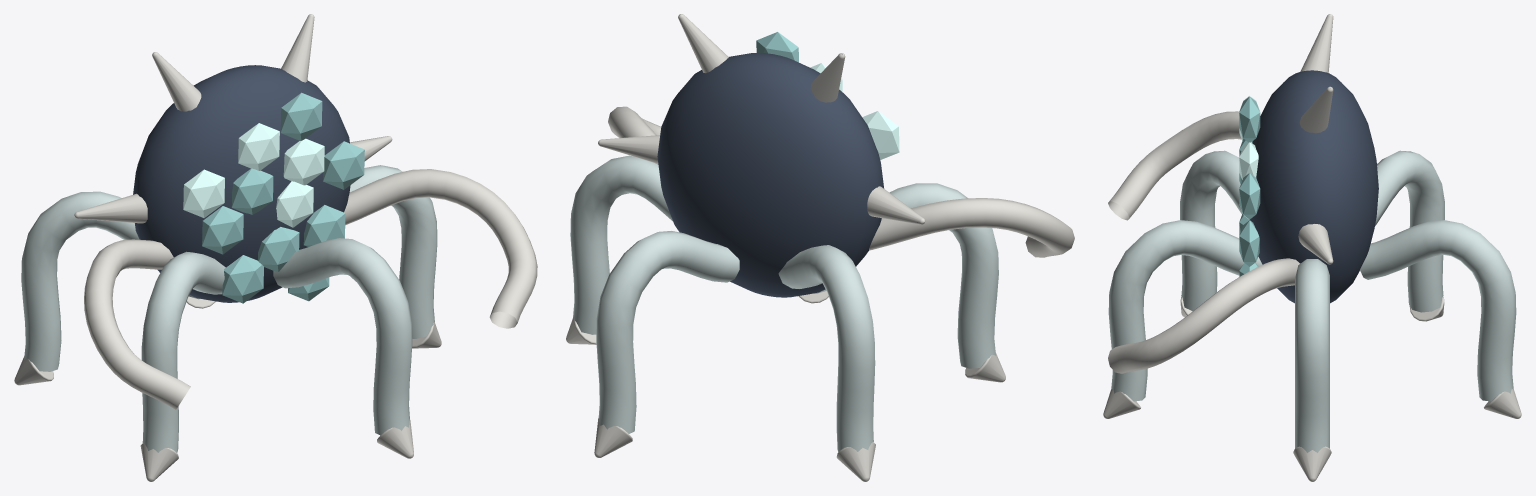
Rendered from bio_crown_stalker_01_near.glb.
3 views of the same model, side by side, from view 1: azimuth 30°, elevation 25°; view 2: azimuth 150°, elevation 25°; view 3: azimuth 270°, elevation 25° (orthographic). The views are drawn at different scales.
Parts seen in each view (by area): view 1: Faceted crown substrate, Compound lens facet.001, Crooked support.004, Scythe sensory limb.001, Crooked support.002, Crooked support.003, Scythe sensory limb, Compound lens facet, Crooked support, Crown radiating blade, Contact spur.003, Contact spur.004 (+1 smaller); view 2: Faceted crown substrate, Crooked support.001, Crooked support.002, Crooked support, Crooked support.003, Scythe sensory limb, Crown radiating blade, Compound lens facet, Scythe sensory limb.001, Contact spur.002, Contact spur.001, Compound lens facet.001 (+1 smaller); view 3: Faceted crown substrate, Crooked support.001, Crooked support.004, Crooked support, Scythe sensory limb.001, Crooked support.002, Crooked support.003, Scythe sensory limb, Crown radiating blade, Compound lens facet.001, Contact spur, Contact spur.001 (+2 smaller).
Part boxes in pixels (bbox=[...]): Faceted crown substrate: bbox=[133, 65, 350, 302]; Compound lens facet.001: bbox=[202, 92, 364, 303]; Crooked support.004: bbox=[273, 238, 412, 435]; Scythe sensory limb.001: bbox=[344, 169, 537, 328]; Crooked support.002: bbox=[21, 191, 139, 371]; Crooked support.003: bbox=[141, 251, 225, 452]; Scythe sensory limb: bbox=[84, 239, 190, 409]; Compound lens facet: bbox=[183, 123, 324, 227]; Crooked support: bbox=[349, 165, 437, 338]; Crown radiating blade: bbox=[74, 14, 392, 223]; Contact spur.003: bbox=[140, 443, 178, 481]; Contact spur.004: bbox=[377, 419, 413, 458]; Faceted crown substrate: bbox=[657, 52, 884, 297]; Crooked support.001: bbox=[596, 231, 739, 433]; Crooked support.002: bbox=[778, 245, 875, 451]; Crooked support: bbox=[570, 155, 672, 334]; Crooked support.003: bbox=[889, 183, 998, 368]; Scythe sensory limb: bbox=[869, 198, 1074, 257]; Crown radiating blade: bbox=[598, 14, 925, 224]; Compound lens facet: bbox=[810, 63, 899, 159]; Scythe sensory limb.001: bbox=[608, 106, 661, 164]; Contact spur.002: bbox=[836, 442, 875, 481]; Contact spur.001: bbox=[594, 417, 632, 457]; Compound lens facet.001: bbox=[756, 32, 798, 62]; Faceted crown substrate: bbox=[1249, 70, 1378, 303]; Crooked support.001: bbox=[1360, 220, 1516, 401]; Crooked support.004: bbox=[1108, 220, 1262, 401]; Crooked support: bbox=[1295, 259, 1329, 452]; Scythe sensory limb.001: bbox=[1108, 258, 1300, 373]; Crooked support.002: bbox=[1375, 150, 1444, 312]; Crooked support.003: bbox=[1180, 150, 1242, 311]; Scythe sensory limb: bbox=[1108, 111, 1241, 220]; Crown radiating blade: bbox=[1298, 14, 1333, 264]; Compound lens facet.001: bbox=[1239, 96, 1260, 276]; Contact spur: bbox=[1293, 446, 1331, 481]; Contact spur.001: bbox=[1484, 389, 1521, 418].
Size of the model in its own units: 2.58 by 2.03 by 2.27.
